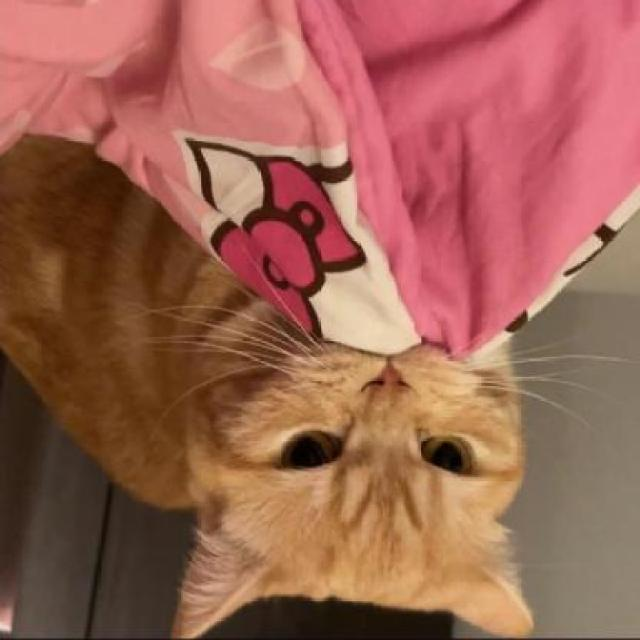cat: (140, 315, 534, 640)
